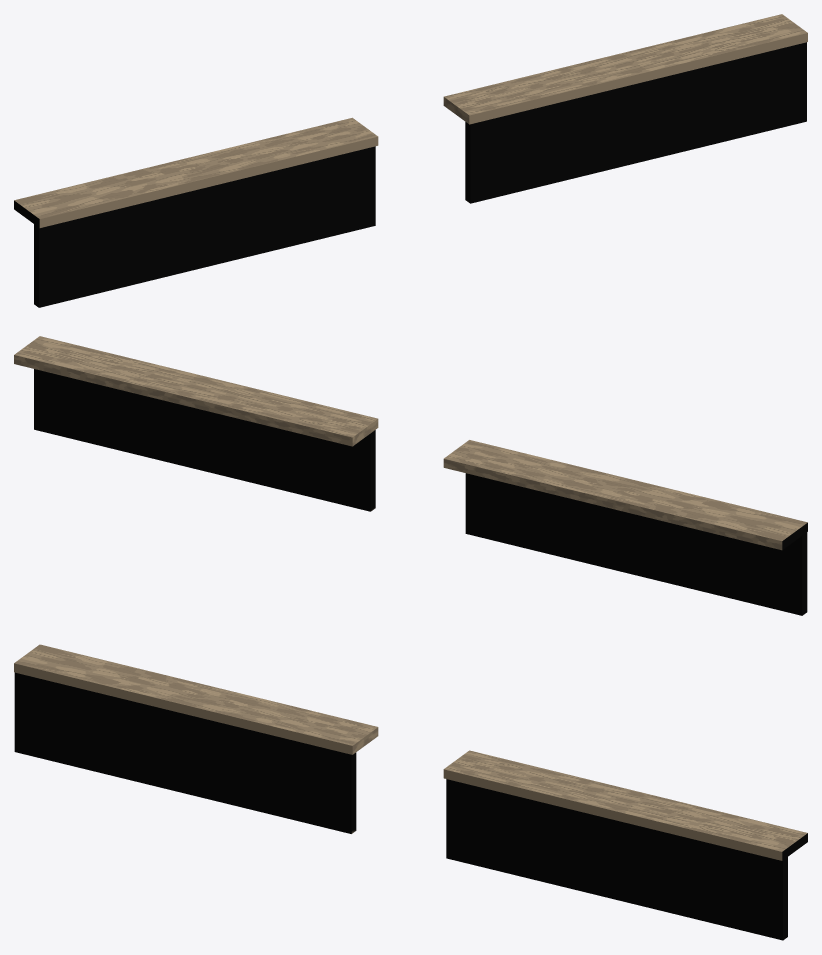
File: Barra.fbx
3 views of the same model, one above another, from view 1: azimuth 30°, elevation 25°; view 2: azimuth 150°, elevation 25°; view 3: azimuth 330°, elevation 25° (orthographic).
Visible parts, largest first — view 1: Cube.039; view 2: Cube.039; view 3: Cube.039.
Boxes of the visible parts, <box> form: Cube.039: <box>14,14,807,307</box>; Cube.039: <box>14,336,807,615</box>; Cube.039: <box>14,644,807,940</box>.
Bounding box in the file's own units: 18000 × 2025 × 1050.
1 material, 1 textured.
